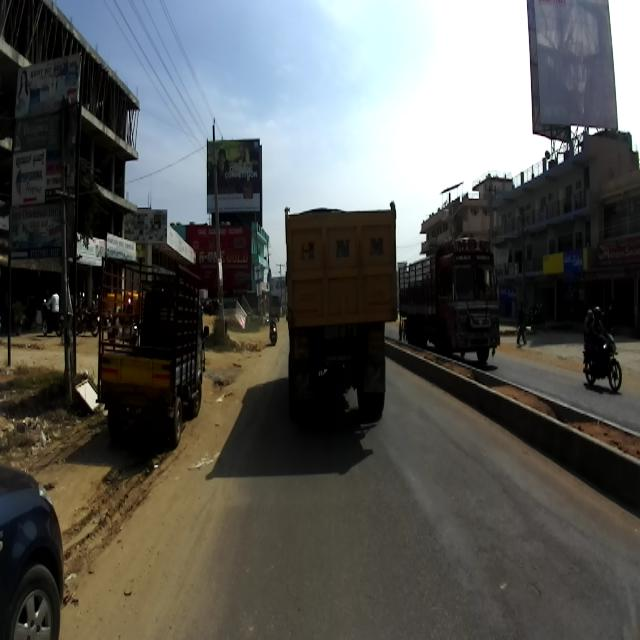truck ahead at: (276, 202, 401, 426), (98, 253, 210, 455)
